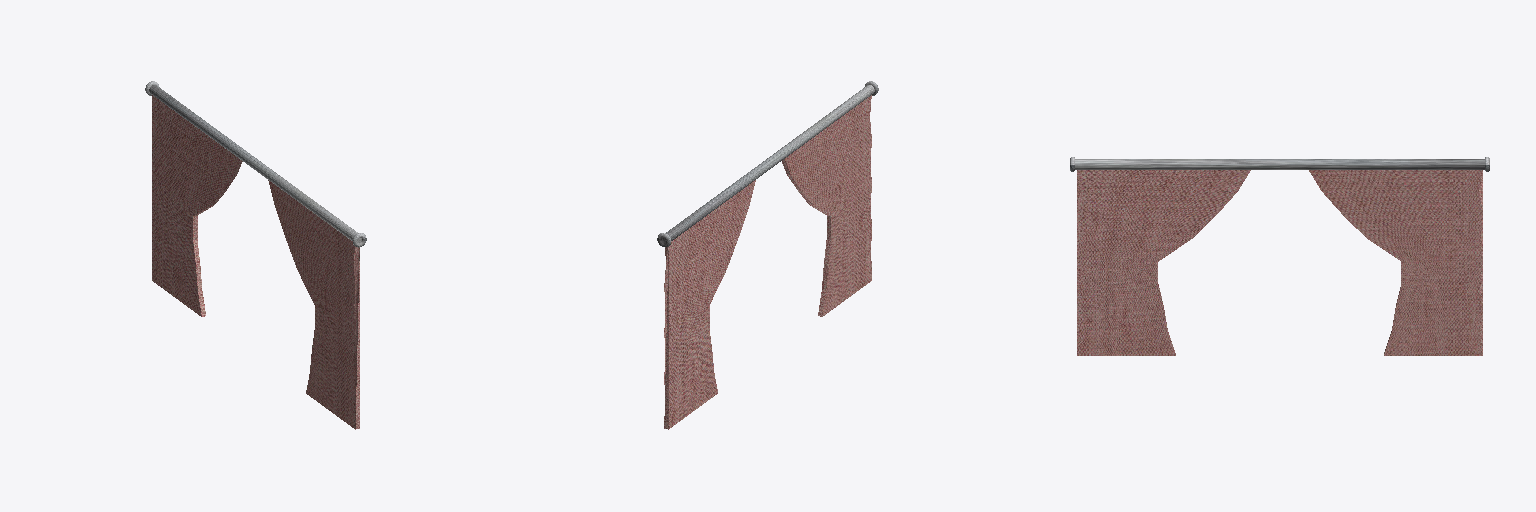
3 views of the same model, side by side, from view 1: azimuth 30°, elevation 25°; view 2: azimuth 150°, elevation 25°; view 3: azimuth 270°, elevation 25° (orthographic).
Parts seen in each view (by area): view 1: pasted__pasted__pCube1; view 2: pasted__pasted__pCube1; view 3: pasted__pasted__pCube1.
Part boxes in pixels (x1,y1,x2,y2): pasted__pasted__pCube1: (145,81,366,429); pasted__pasted__pCube1: (657,81,878,429); pasted__pasted__pCube1: (1070,157,1489,355).
Size of the model in its own units: 0.3 by 4.2 by 8.08.
3 materials, 2 textured.